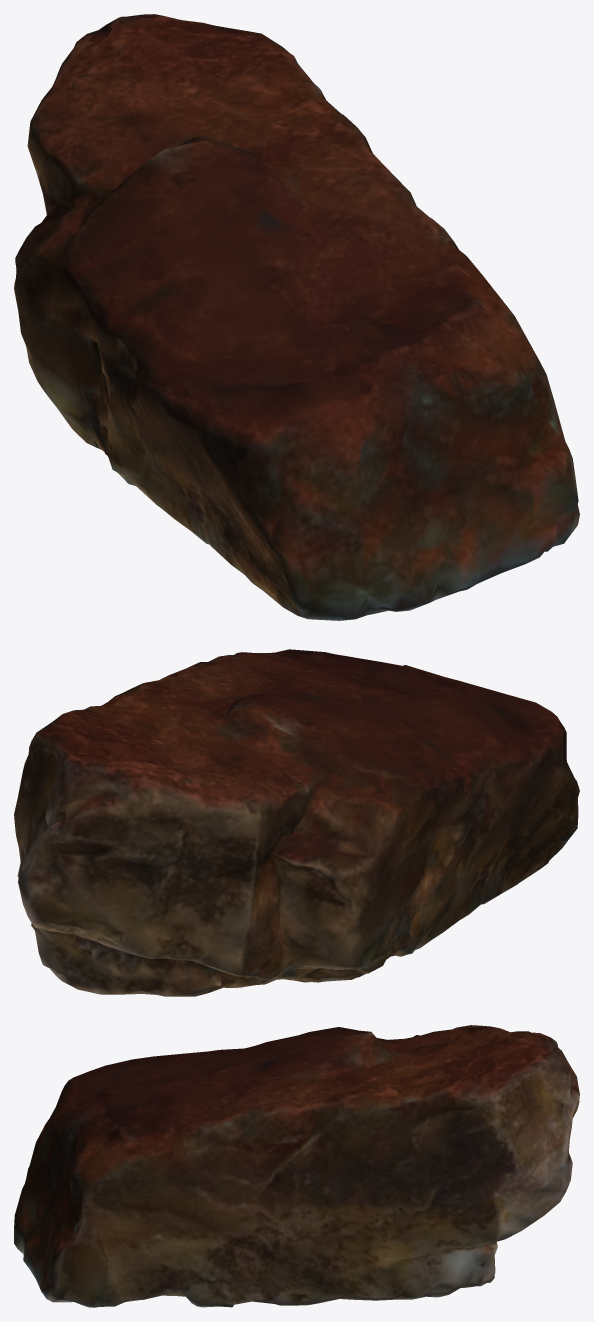
Rendered from rock_07.glb.
The picture shows the model from 3 angles, top to bottom: view 1: azimuth 30°, elevation 25°; view 2: azimuth 150°, elevation 25°; view 3: azimuth 270°, elevation 25°; orthographic projection. The views are drawn at different scales.
Visible parts, largest first — view 1: rock_07; view 2: rock_07; view 3: rock_07.
Boxes of the visible parts, box(x1,y1,x2,y2) form: rock_07: box(14, 14, 579, 620); rock_07: box(14, 649, 579, 996); rock_07: box(14, 1025, 579, 1307).
Bounding box in the file's own units: 0.1686 × 0.1437 × 0.3199.
Materials: 1 (1 with a texture image).
